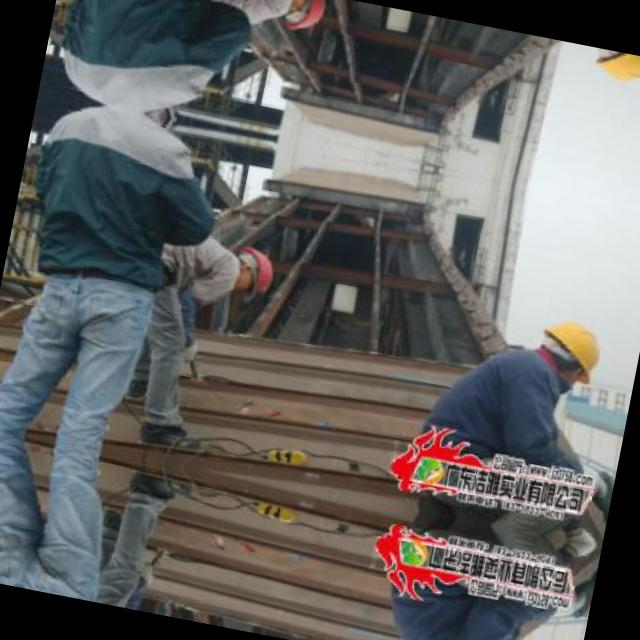helmet: (527, 306, 607, 389), (222, 238, 280, 306), (584, 46, 640, 94), (273, 0, 331, 38)
